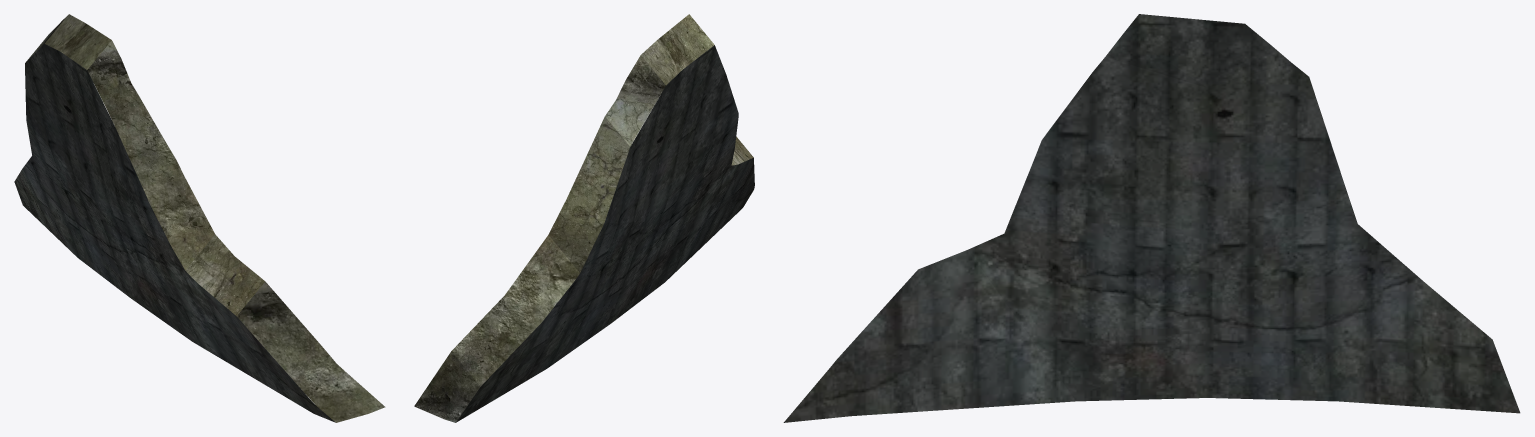
Rendered from TW2_9_ADDONS_12_6_6-transformed.glb.
3 renders of one model, left to right at view 1: azimuth 30°, elevation 25°; view 2: azimuth 150°, elevation 25°; view 3: azimuth 270°, elevation 25°, orthographic. The views are drawn at different scales.
Parts seen in each view (by area): view 1: default; view 2: default; view 3: default.
Part boxes in pixels (<box>): default: <box>14,14,385,422</box>; default: <box>414,14,754,422</box>; default: <box>783,14,1520,422</box>.
Bounding box in the file's own units: 0.5573 × 1.08 × 2.04.
Materials: 2 (2 with a texture image).
